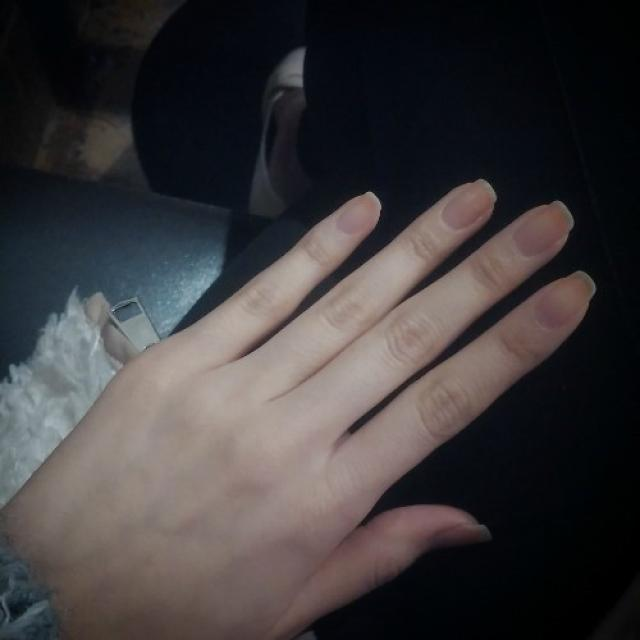Nail: (535, 270, 599, 326), (511, 202, 573, 257), (443, 180, 496, 233), (431, 523, 493, 552), (338, 195, 379, 234)
